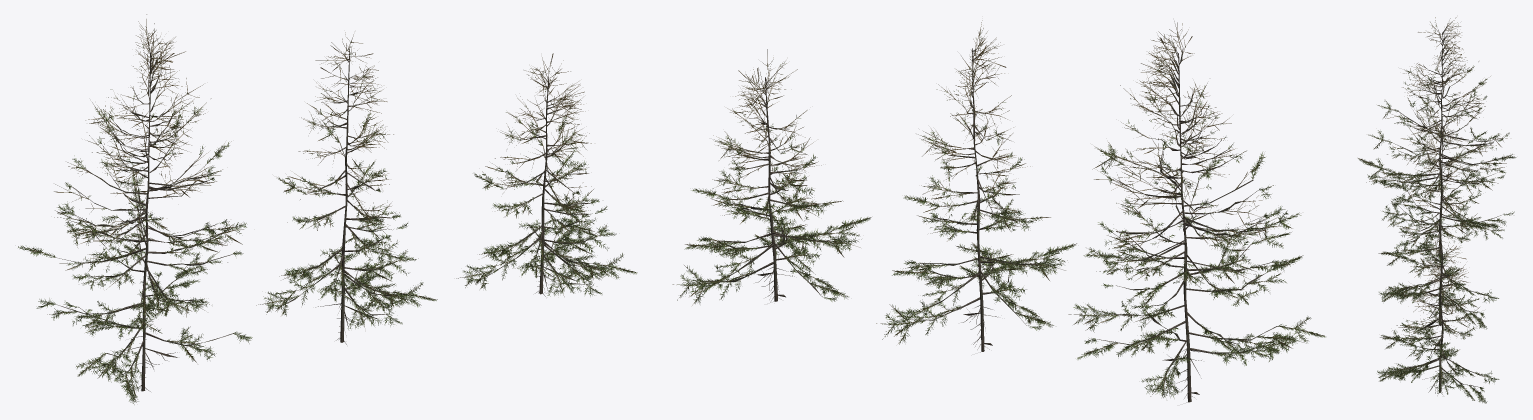
File: fir_sapling_medium.glb
3 renders of one model, left to right at view 1: azimuth 30°, elevation 25°; view 2: azimuth 150°, elevation 25°; view 3: azimuth 270°, elevation 25°, orthographic. The views are drawn at different scales.
Parts seen in each view (by area): view 1: sb_modello; view 2: sb_modello; view 3: sb_modello.
Boxes of the visible parts, x1,y1,x2,y2 form: sb_modello: (18,14,637,404); sb_modello: (672,20,1325,402); sb_modello: (1358,17,1516,403).
Size of the model in its own units: 14.66 by 8.85 by 5.15.
Materials: 3 (3 with a texture image).
